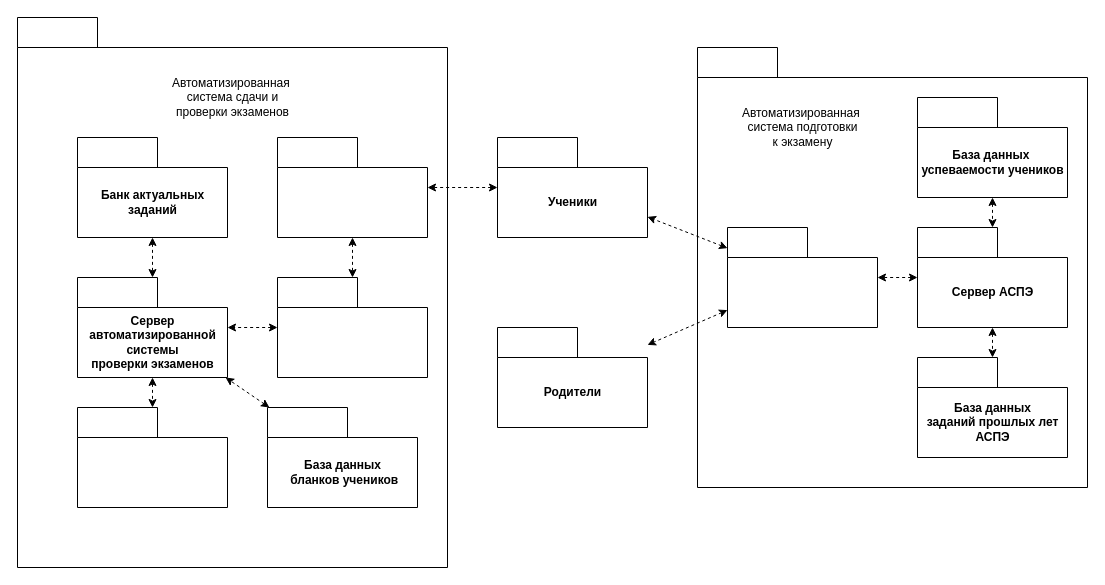
Image size: 1105x585. Some labels were removed from this diagram. Here are the shapes that lost their labels. From the top down, the centre of each, then its label:
At (352,187): "GUI автоматизированной системы сдачи и проверки экзаменов".
At (802,277): "GUI Автоматизированной системы подготовки к экзамену".
At (352,327): "Сервер автоматизированной системы сдачи экзаменов".
At (152,457): "База данных результатов учеников".
